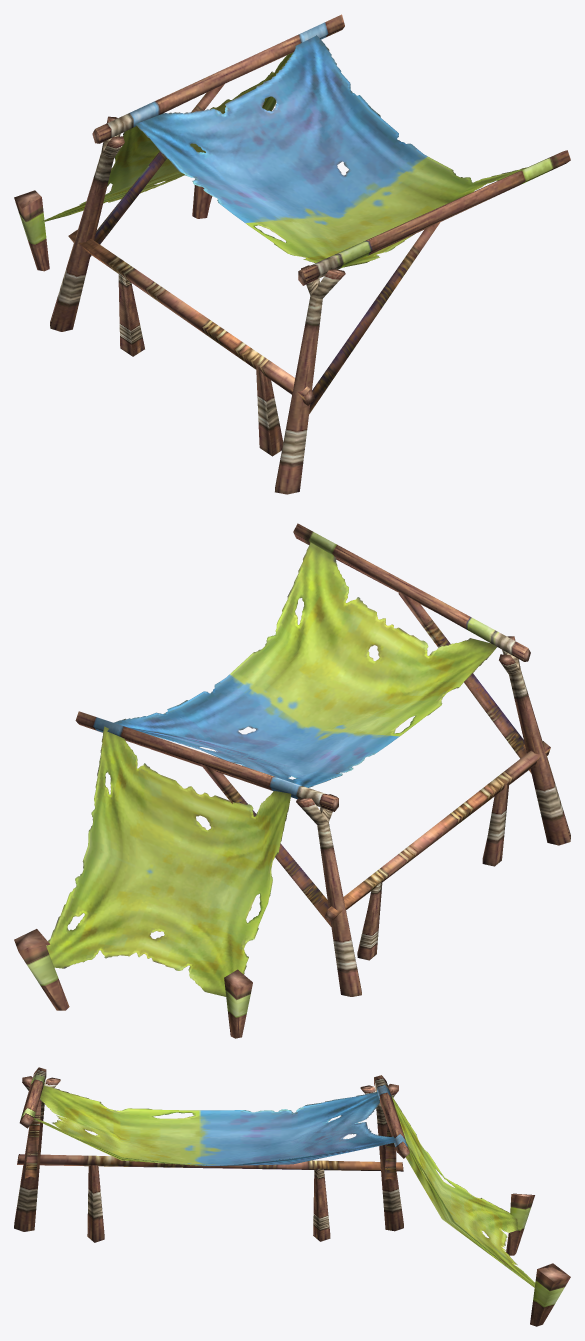
File: goblintent05.obj
3 views of the same model, one above another, from view 1: azimuth 30°, elevation 25°; view 2: azimuth 150°, elevation 25°; view 3: azimuth 270°, elevation 25° (orthographic). The views are drawn at different scales.
Parts seen in each view (by area): view 1: goblintent05; view 2: goblintent05; view 3: goblintent05.
Part boxes in pixels (x1=…): goblintent05: x1=14, y1=14, x2=570, y2=494; goblintent05: x1=14, y1=523, x2=570, y2=1038; goblintent05: x1=14, y1=1067, x2=570, y2=1326.
Size of the model in its own units: 4.71 by 4.22 by 9.24.
